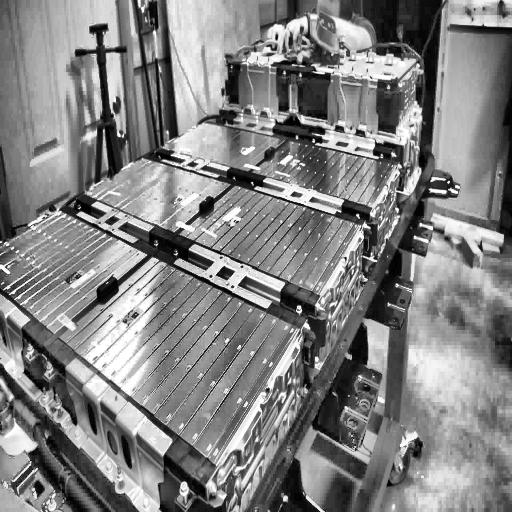battery_module: (58, 254, 299, 468), (180, 184, 360, 295), (0, 210, 147, 334), (86, 156, 232, 234), (249, 139, 398, 205), (162, 121, 287, 170)
connector: (307, 8, 348, 65)
nut: (180, 483, 189, 505), (44, 359, 54, 378), (24, 341, 34, 356), (295, 301, 304, 315), (153, 237, 160, 250), (228, 61, 234, 74), (294, 131, 300, 142), (76, 202, 82, 212), (355, 210, 361, 220), (173, 248, 179, 257), (232, 173, 238, 182), (249, 180, 255, 188), (156, 153, 162, 161), (311, 137, 317, 145), (298, 70, 302, 82), (386, 83, 391, 92), (380, 150, 384, 160), (282, 69, 287, 77)
